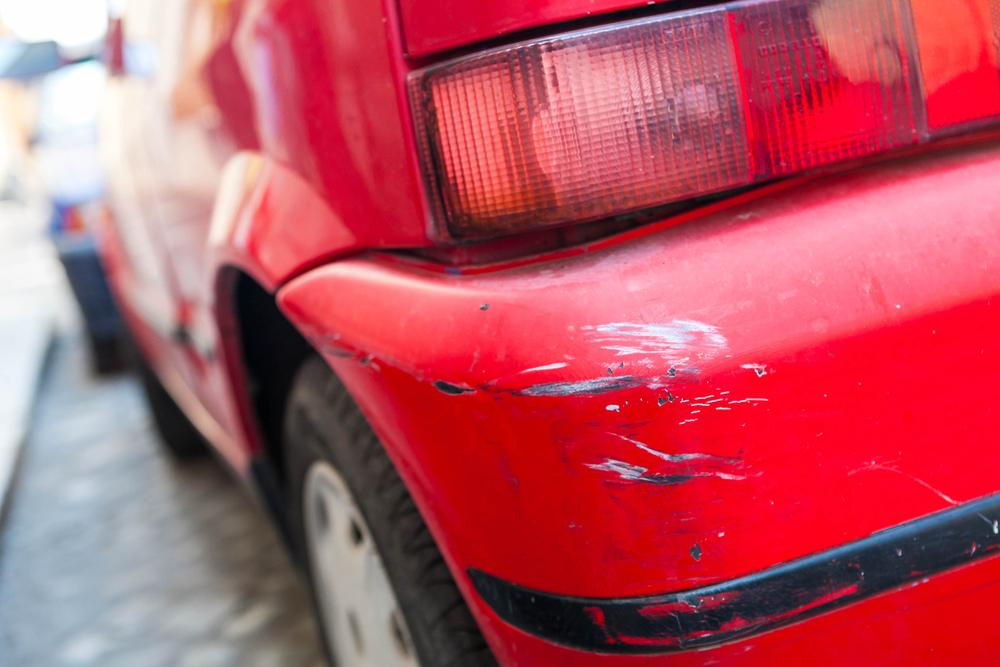scratch: (427, 314, 771, 573)
